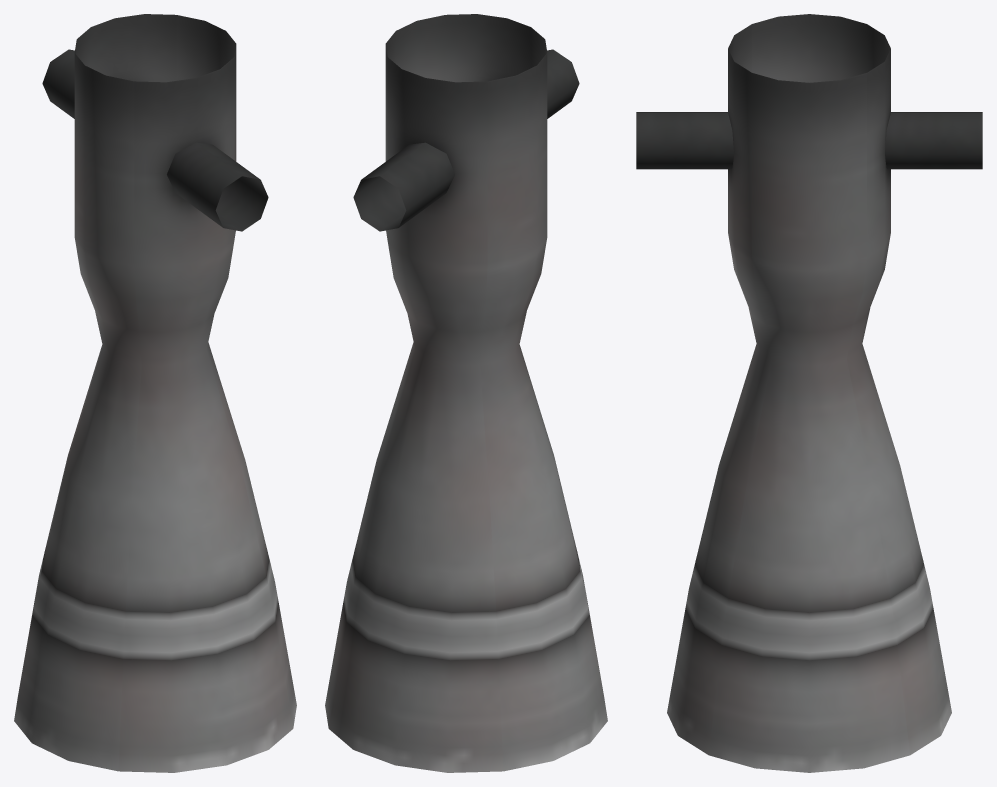
Rendered from tantares_lv_engine_s1_1_vernier.obj.
3 renders of one model, left to right at view 1: azimuth 30°, elevation 25°; view 2: azimuth 150°, elevation 25°; view 3: azimuth 270°, elevation 25°, orthographic.
Visible parts, largest first — view 1: tantares_lv_engine_s1_1_vernier; view 2: tantares_lv_engine_s1_1_vernier; view 3: tantares_lv_engine_s1_1_vernier.
Boxes of the visible parts, x1,y1,x2,y2 form: tantares_lv_engine_s1_1_vernier: (14, 14, 296, 772); tantares_lv_engine_s1_1_vernier: (325, 14, 607, 772); tantares_lv_engine_s1_1_vernier: (636, 14, 982, 772).
Size of the model in its own units: 0.175 by 0.45 by 0.2125.
